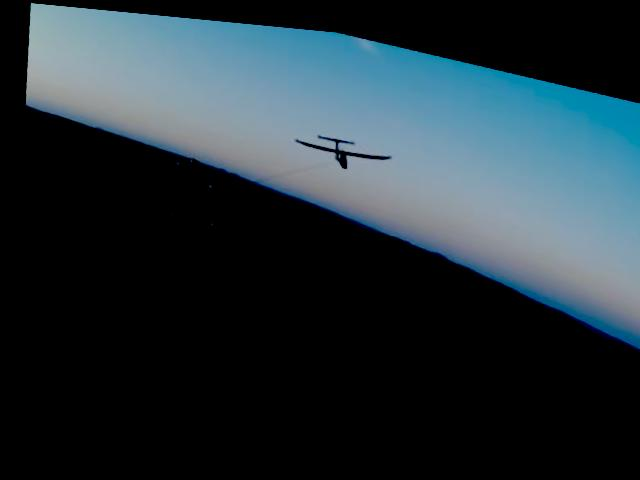uav: (285, 113, 395, 173)
